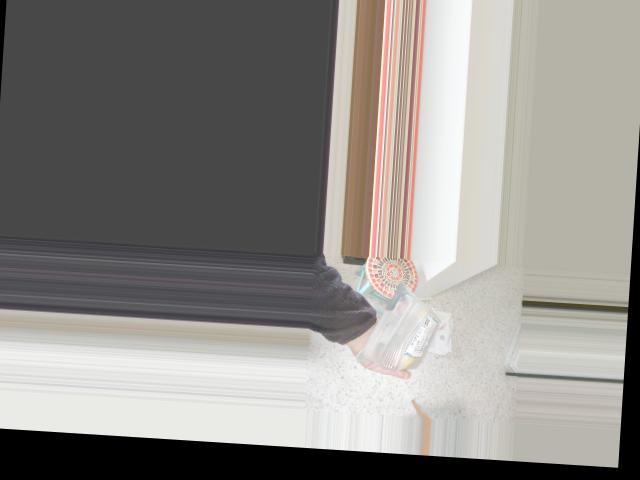cheese: (369, 311, 462, 356)
